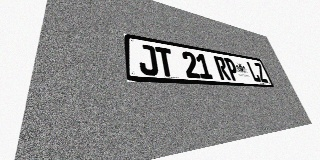1: (194, 53, 213, 79)
2: (181, 51, 201, 78)
J: (137, 44, 159, 76)
L: (246, 61, 262, 82)
P: (223, 57, 241, 81)
R: (213, 56, 231, 80)
T: (155, 46, 176, 77)
Z: (253, 62, 269, 83)
